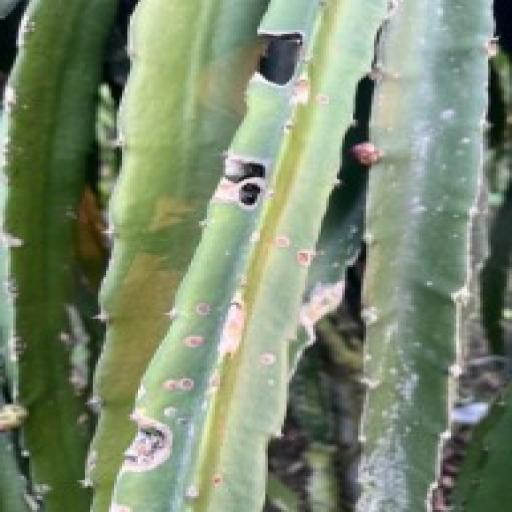stemcanker: (274, 234, 314, 270), (160, 376, 198, 400), (160, 405, 192, 432), (178, 332, 208, 358), (252, 350, 287, 372), (316, 86, 341, 112), (187, 301, 222, 319), (180, 484, 204, 504), (264, 375, 286, 395), (210, 469, 229, 492), (279, 120, 300, 140), (264, 191, 279, 207)
